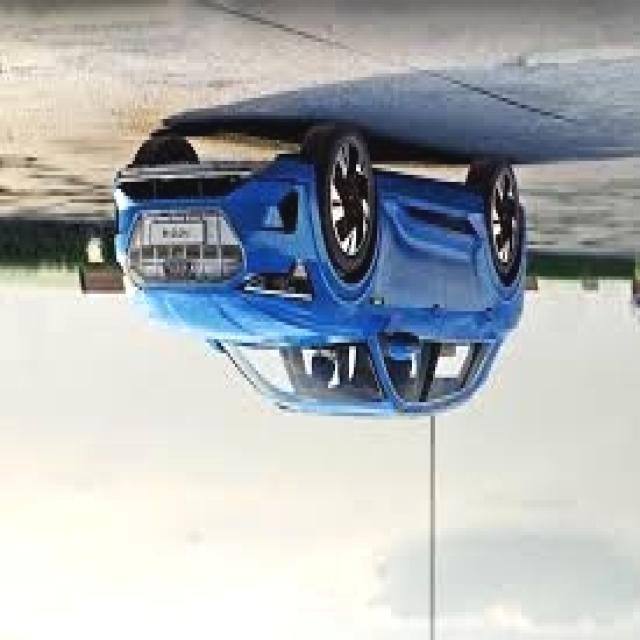blue: (123, 131, 526, 431)
